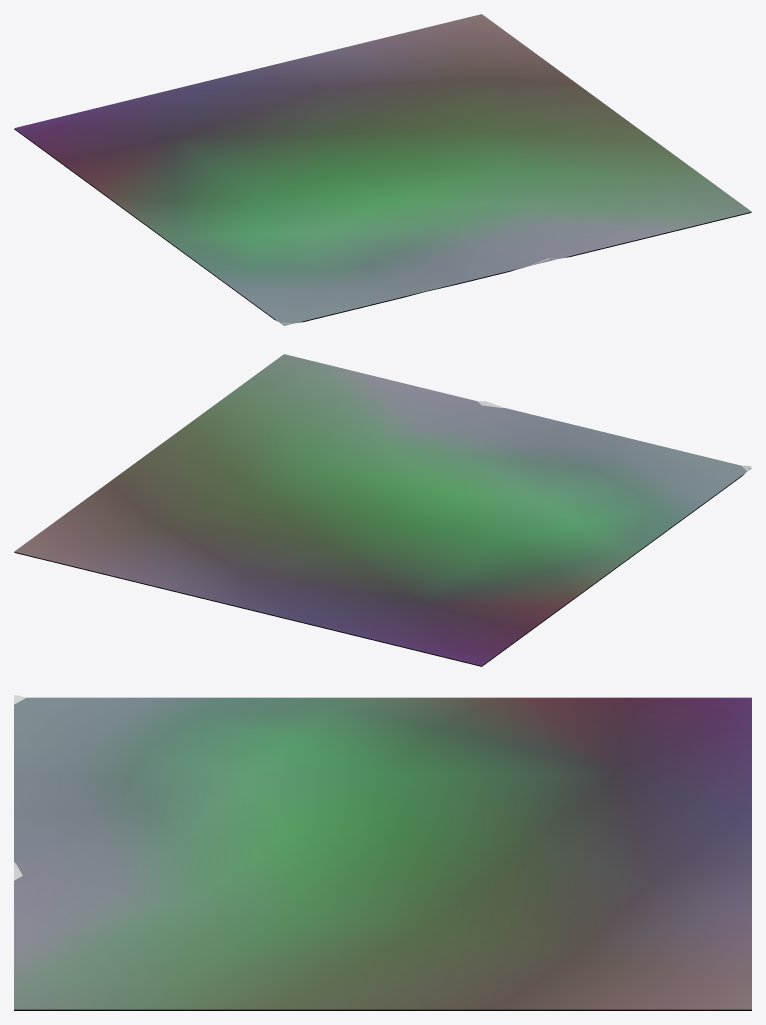
3 renders of one model, top to bottom at view 1: azimuth 30°, elevation 25°; view 2: azimuth 150°, elevation 25°; view 3: azimuth 270°, elevation 25°, orthographic. The views are drawn at different scales.
Visible parts, largest first — view 1: G:\FFXIV-MapTools\exports\r2f1\bg\ex1\01_roc_r2\fld\r2f1\bgp (×2); view 2: G:\FFXIV-MapTools\exports\r2f1\bg\ex1\01_roc_r2\fld\r2f1\bgp (×2); view 3: G:\FFXIV-MapTools\exports\r2f1\bg\ex1\01_roc_r2\fld\r2f1\bgp (×2).
Part boxes in pixels (x1,y1,x2,y2): G:\FFXIV-MapTools\exports\r2f1\bg\ex1\01_roc_r2\fld\r2f1\bgp (×2): [14, 14, 751, 325]; G:\FFXIV-MapTools\exports\r2f1\bg\ex1\01_roc_r2\fld\r2f1\bgp (×2): [14, 354, 751, 666]; G:\FFXIV-MapTools\exports\r2f1\bg\ex1\01_roc_r2\fld\r2f1\bgp (×2): [14, 697, 751, 1010].
Size of the model in its own units: 128 by 0.75 by 128.
